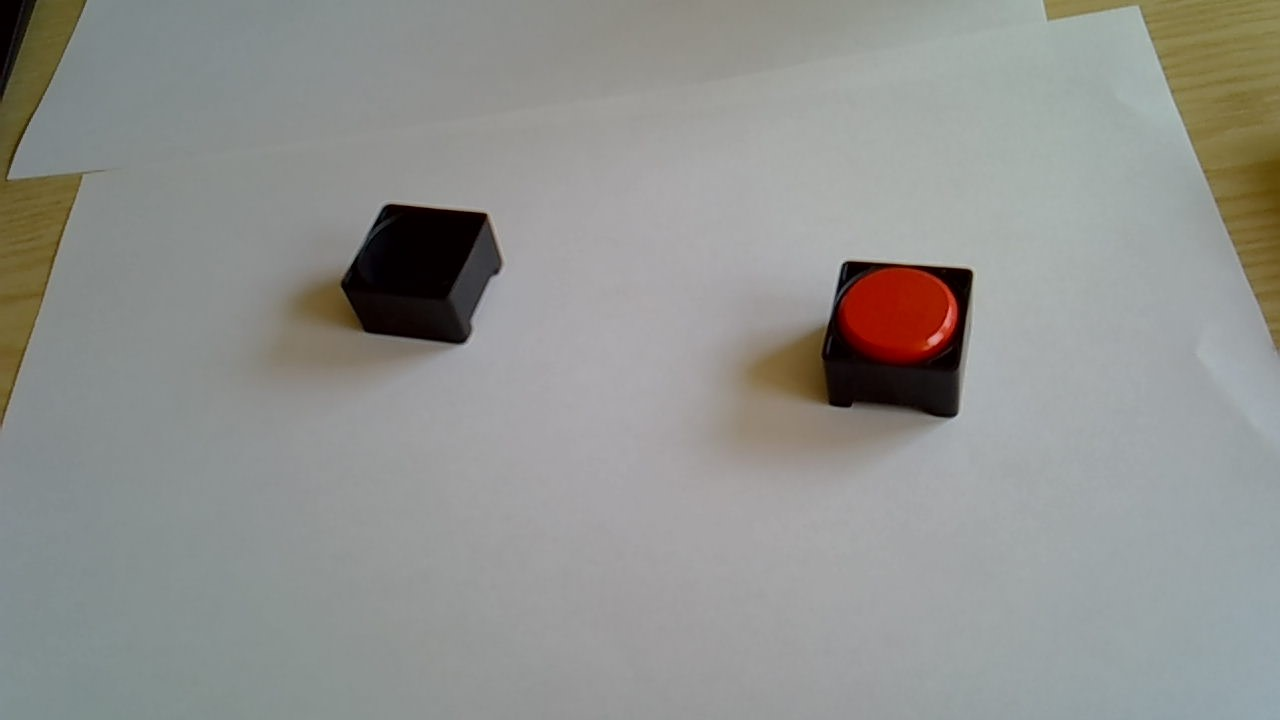Behaelter: (819, 260, 979, 422), (340, 201, 507, 345)
WerkStueck: (839, 268, 961, 364)
